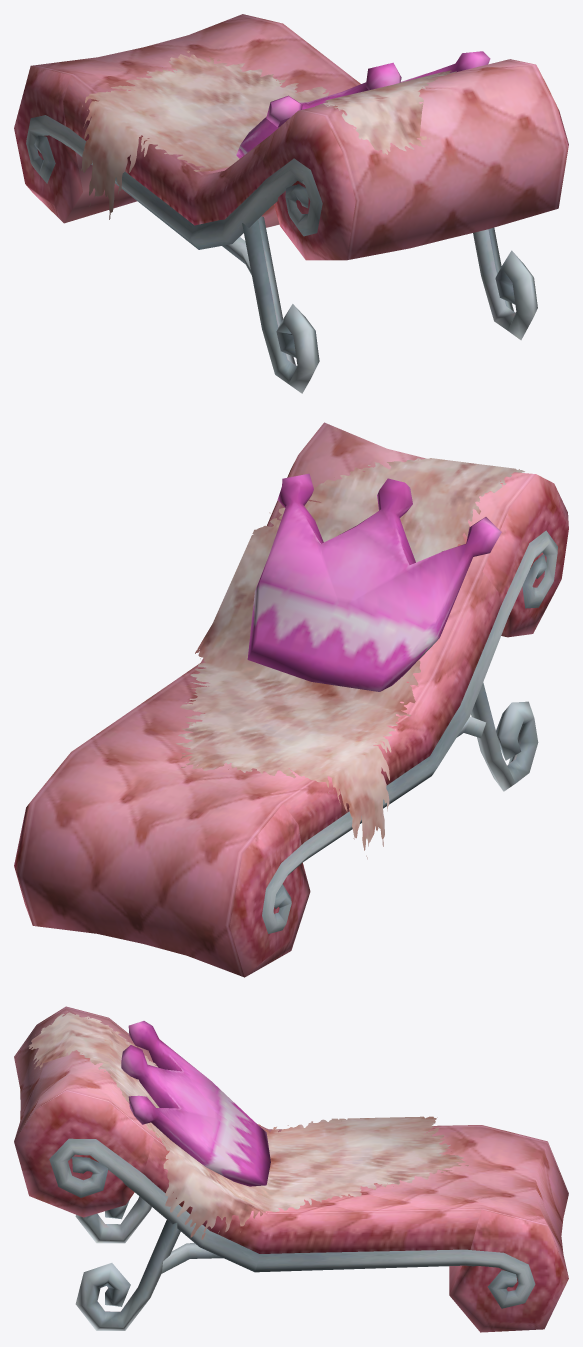
Rendered from furni_0200012.FBX.
The picture shows the model from 3 angles, top to bottom: view 1: azimuth 30°, elevation 25°; view 2: azimuth 150°, elevation 25°; view 3: azimuth 270°, elevation 25°; orthographic projection. The views are drawn at different scales.
Visible parts, largest first — view 1: furni_0200012; view 2: furni_0200012; view 3: furni_0200012.
Boxes of the visible parts, <box> form: furni_0200012: <box>14,14,568,393</box>; furni_0200012: <box>14,422,568,977</box>; furni_0200012: <box>14,1006,568,1332</box>.
Bounding box in the file's own units: 83.58 × 87.34 × 183.
